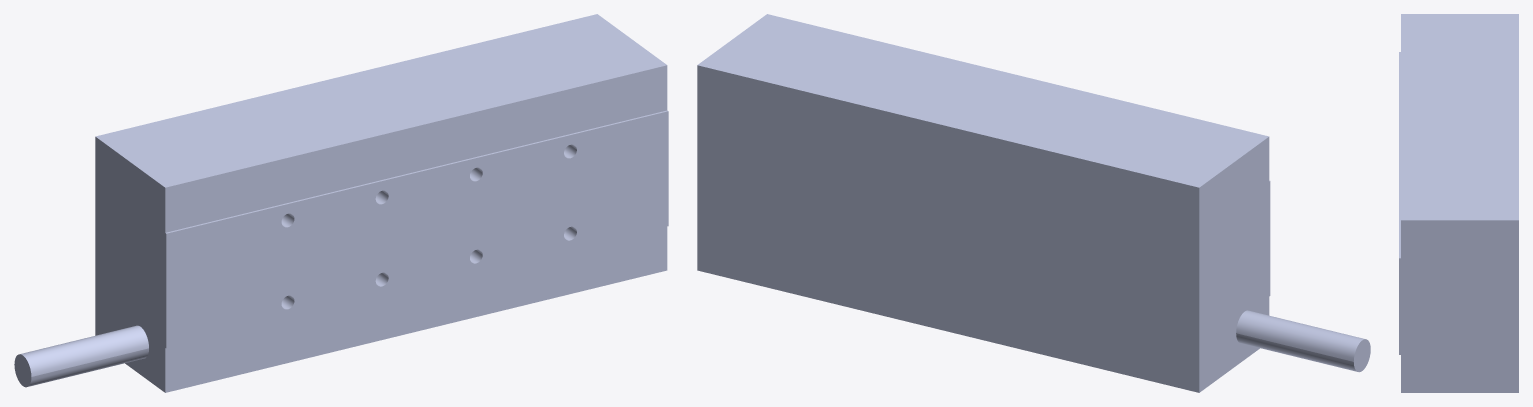
File: MTA-6.glb
3 renders of one model, left to right at view 1: azimuth 30°, elevation 25°; view 2: azimuth 150°, elevation 25°; view 3: azimuth 270°, elevation 25°, orthographic. The views are drawn at different scales.
Parts seen in each view (by area): view 1: MTA-6_node_1; view 2: MTA-6_node_1; view 3: MTA-6_node_1.
Part boxes in pixels (x1,y1,x2,y2): MTA-6_node_1: [14, 14, 668, 392]; MTA-6_node_1: [697, 14, 1370, 392]; MTA-6_node_1: [1399, 14, 1518, 392].
Bounding box in the file's own units: 158 × 50 × 31.4.
